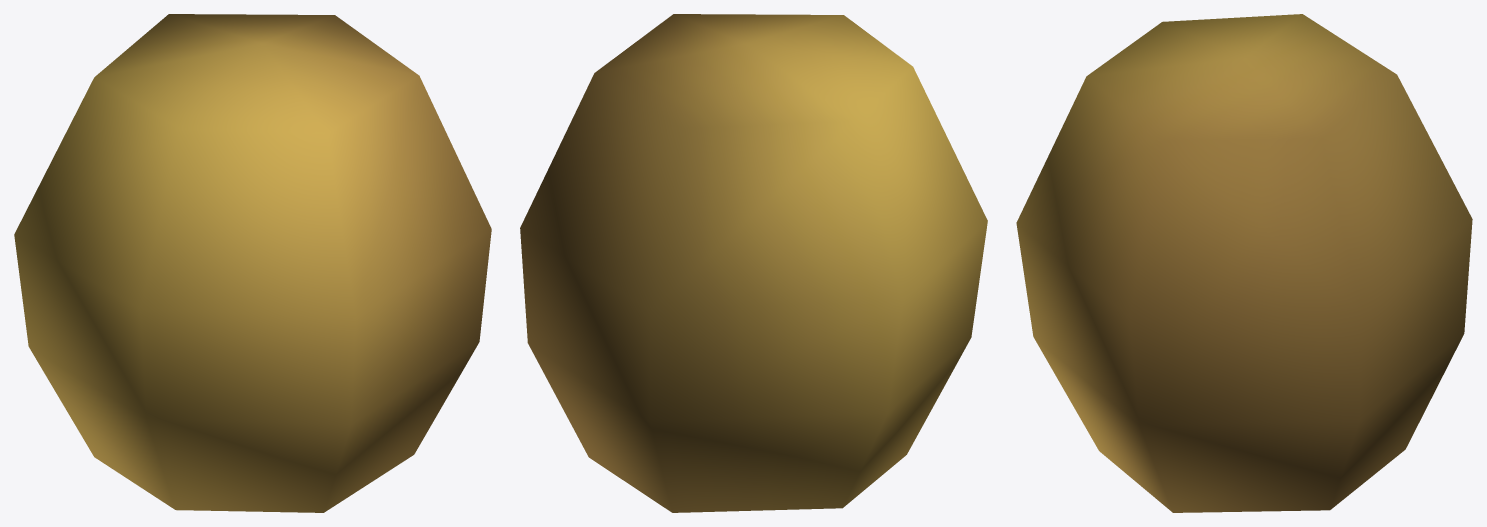
Rendered from SM_Gooseberry_B.fbx.
3 views of the same model, side by side, from view 1: azimuth 30°, elevation 25°; view 2: azimuth 150°, elevation 25°; view 3: azimuth 270°, elevation 25° (orthographic). The views are drawn at different scales.
Parts seen in each view (by area): view 1: SM_Gooseberry_B; view 2: SM_Gooseberry_B; view 3: SM_Gooseberry_B.
Part boxes in pixels (box(x1,y1,x2,y2)): SM_Gooseberry_B: box(14, 14, 491, 512); SM_Gooseberry_B: box(520, 14, 987, 512); SM_Gooseberry_B: box(1016, 14, 1472, 512).
Size of the model in its own units: 2.92 by 3.29 by 3.18.
